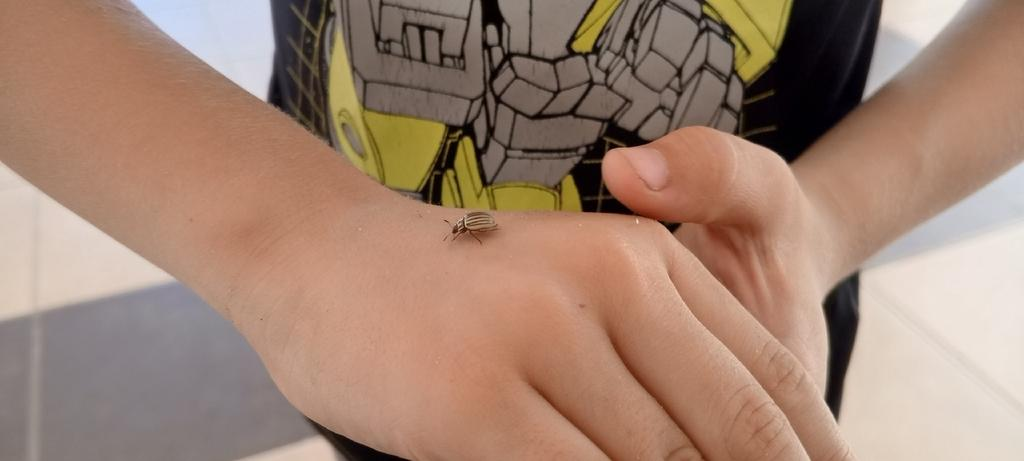potato_beetle: (415, 193, 524, 264)
